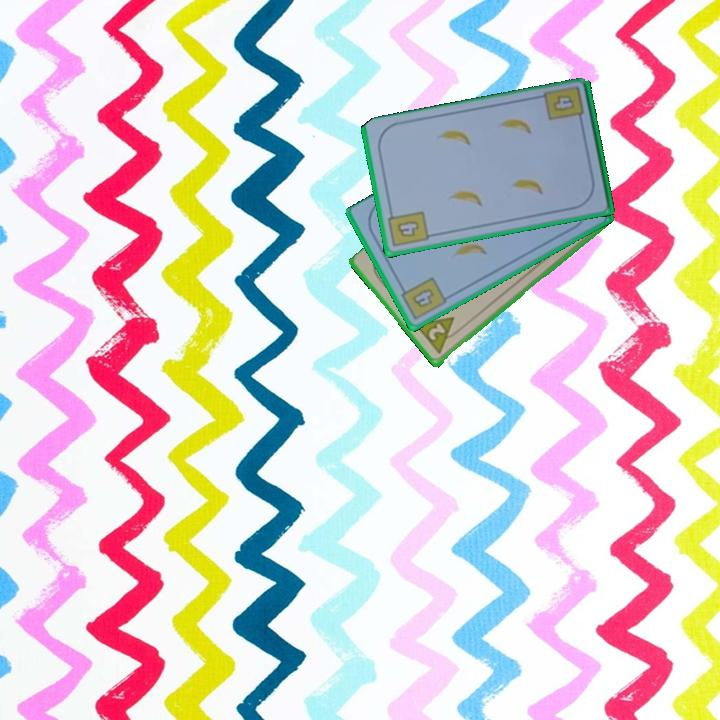2p: (424, 320, 448, 344)
4b: (396, 274, 449, 323), (385, 207, 431, 250), (549, 92, 577, 115)
